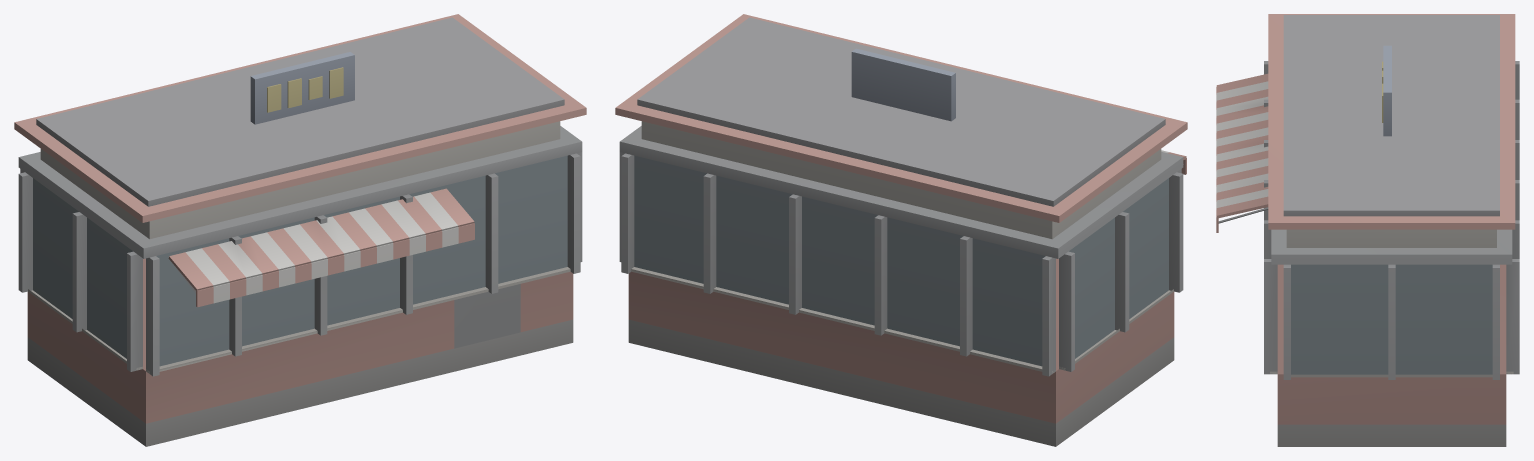
File: diner.lod1.glb
3 views of the same model, side by side, from view 1: azimuth 30°, elevation 25°; view 2: azimuth 150°, elevation 25°; view 3: azimuth 270°, elevation 25° (orthographic). The views are drawn at different scales.
Bounding box in the file's own units: 8.14 × 4.95 × 4.91.
